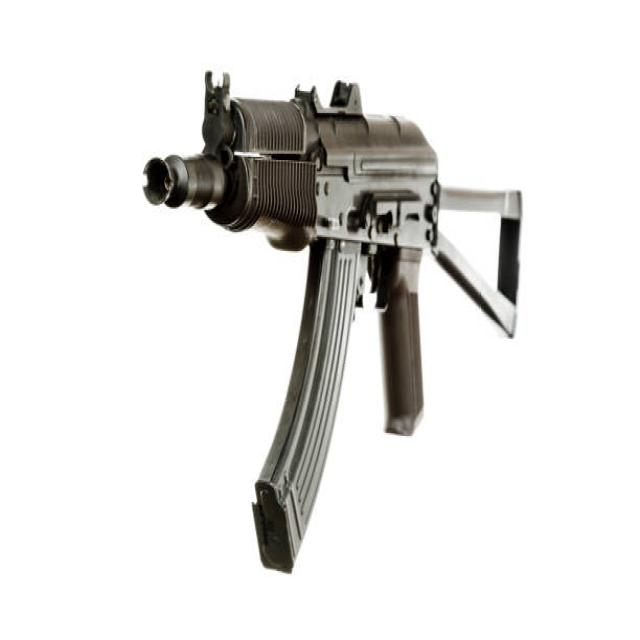rifle: (140, 59, 532, 584)
